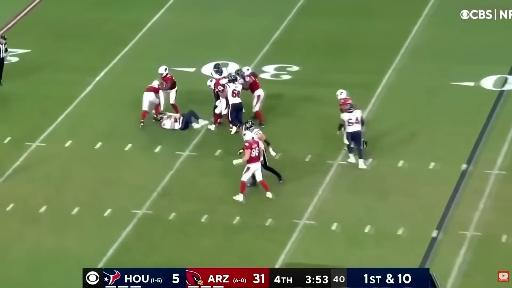Helmet: (241, 66, 252, 76), (213, 63, 222, 75), (243, 131, 253, 141), (244, 120, 254, 130), (336, 90, 347, 99), (228, 74, 238, 83), (159, 66, 168, 75), (157, 111, 166, 120), (207, 79, 215, 89), (345, 102, 354, 110), (151, 81, 159, 87)
Jersey: (341, 110, 363, 132), (249, 128, 265, 156), (244, 140, 261, 164), (226, 83, 242, 105), (246, 73, 260, 93), (162, 116, 182, 129), (162, 74, 176, 90), (211, 68, 228, 79), (214, 78, 227, 92), (249, 128, 262, 138), (145, 86, 159, 95)
Player: (233, 131, 272, 201), (338, 103, 366, 168), (242, 67, 264, 127), (244, 120, 276, 156), (207, 78, 228, 130), (226, 74, 243, 134), (159, 66, 179, 113), (161, 110, 207, 130), (140, 81, 160, 127), (213, 90, 227, 123), (211, 63, 228, 78), (336, 90, 351, 106), (234, 69, 245, 84)
